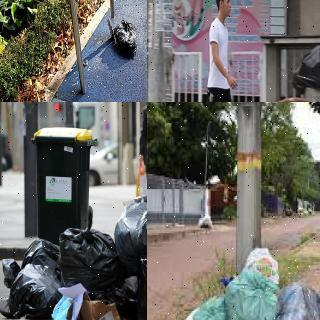Garbage: (55, 225, 125, 309), (1, 237, 66, 317), (224, 268, 283, 320), (112, 191, 147, 273), (264, 282, 320, 320), (245, 243, 283, 287), (110, 15, 141, 63), (192, 296, 232, 320)
